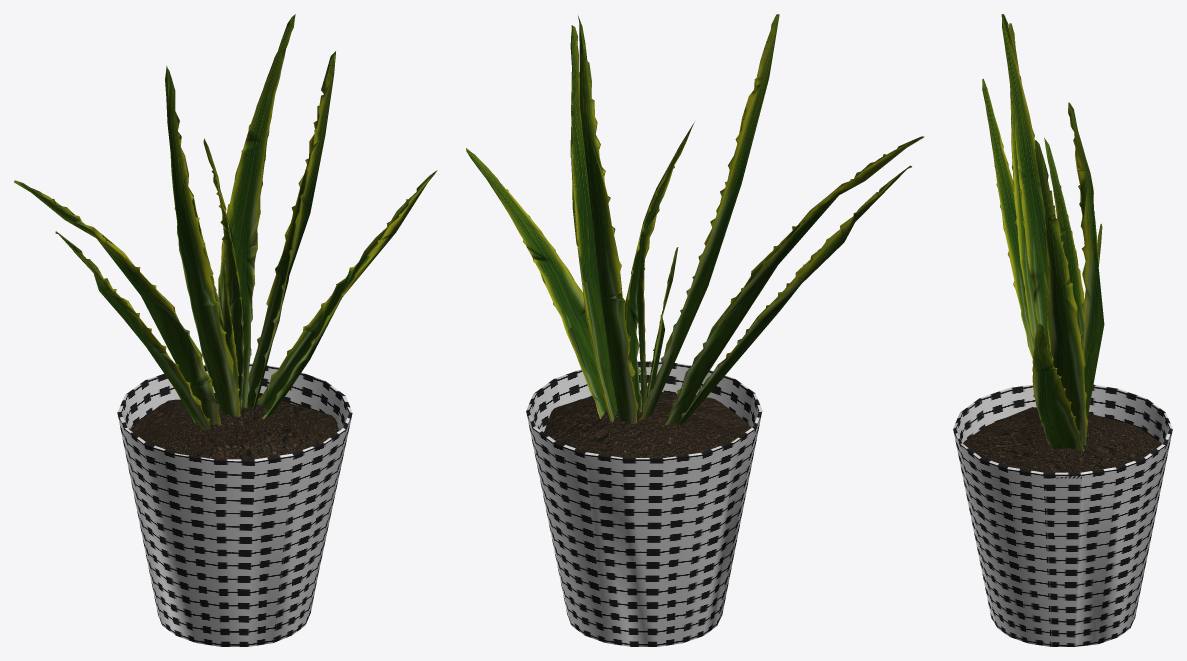
The model's file is Potted Aloe.glb.
3 renders of one model, left to right at view 1: azimuth 30°, elevation 25°; view 2: azimuth 150°, elevation 25°; view 3: azimuth 270°, elevation 25°, orthographic. The views are drawn at different scales.
Parts seen in each view (by area): view 1: cae4a97b-63ba-4cfa-ad85-7705014895e0, c26df7c4-ff8e-4af2-bbaf-fcdac3947559, 5616ed09-e1bb-4e5d-af9b-f78b8665cbdc; view 2: cae4a97b-63ba-4cfa-ad85-7705014895e0, c26df7c4-ff8e-4af2-bbaf-fcdac3947559, 5616ed09-e1bb-4e5d-af9b-f78b8665cbdc; view 3: cae4a97b-63ba-4cfa-ad85-7705014895e0, c26df7c4-ff8e-4af2-bbaf-fcdac3947559, 5616ed09-e1bb-4e5d-af9b-f78b8665cbdc.
Boxes of the visible parts, x1,y1,x2,y2 form: cae4a97b-63ba-4cfa-ad85-7705014895e0: (117, 363, 352, 646); c26df7c4-ff8e-4af2-bbaf-fcdac3947559: (14, 14, 437, 429); 5616ed09-e1bb-4e5d-af9b-f78b8665cbdc: (130, 396, 338, 459); cae4a97b-63ba-4cfa-ad85-7705014895e0: (526, 361, 762, 646); c26df7c4-ff8e-4af2-bbaf-fcdac3947559: (466, 14, 924, 426); 5616ed09-e1bb-4e5d-af9b-f78b8665cbdc: (536, 391, 750, 480); cae4a97b-63ba-4cfa-ad85-7705014895e0: (953, 384, 1172, 646); c26df7c4-ff8e-4af2-bbaf-fcdac3947559: (982, 14, 1104, 451); 5616ed09-e1bb-4e5d-af9b-f78b8665cbdc: (963, 407, 1161, 486).
Size of the model in its own units: 0.3536 by 0.4592 by 0.1638.
3 materials, 3 textured.
